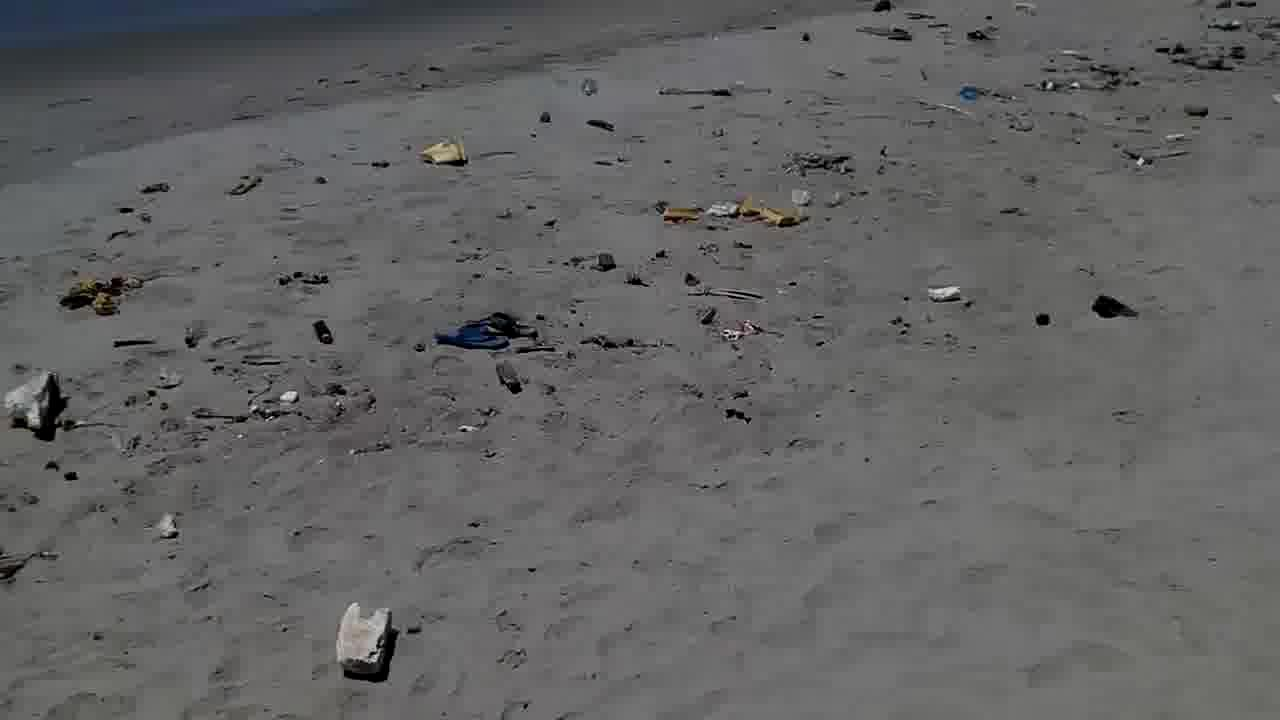large collection of objects: (5, 364, 64, 436), (278, 390, 298, 404)
obj: (178, 324, 382, 428), (57, 268, 168, 323), (333, 594, 392, 684), (434, 312, 540, 354), (734, 189, 808, 231), (580, 328, 682, 354), (680, 273, 761, 304), (788, 146, 854, 180), (416, 133, 471, 171), (915, 280, 970, 312), (1088, 296, 1144, 326), (490, 356, 526, 398), (659, 200, 705, 226), (587, 246, 620, 275), (953, 83, 984, 105), (313, 318, 332, 346), (625, 272, 646, 292), (1034, 309, 1052, 326)
sand/background: (1, 0, 829, 185)
